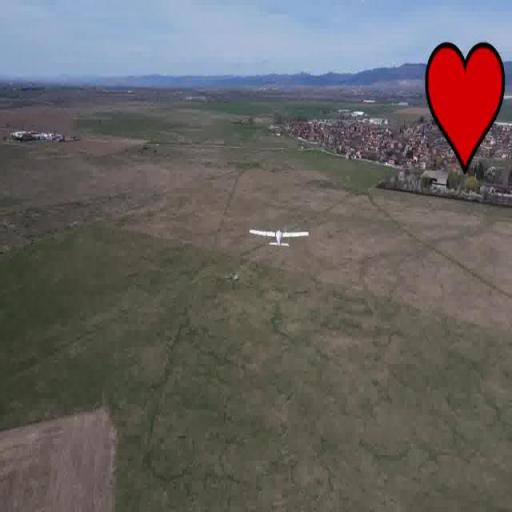uav: (249, 222, 313, 251)
